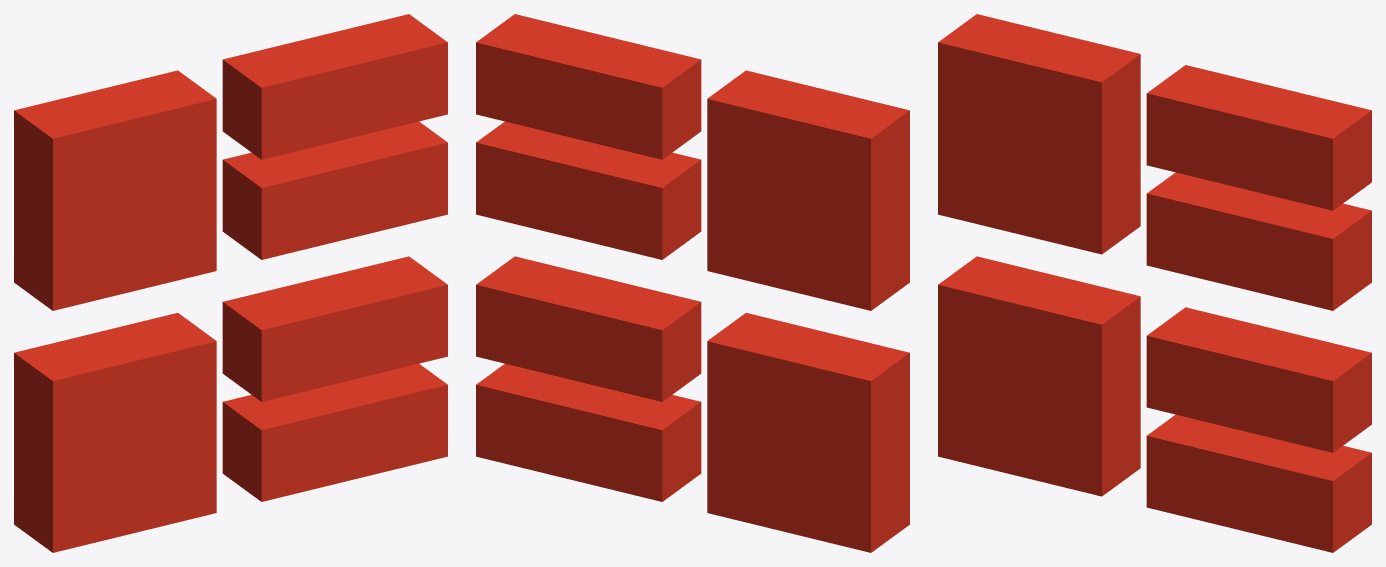
File: Icon_Menu_02.fbx
The picture shows the model from 3 angles, left to right: view 1: azimuth 30°, elevation 25°; view 2: azimuth 150°, elevation 25°; view 3: azimuth 330°, elevation 25°; orthographic projection.
Visible parts, largest first — view 1: Icon_Menu_02; view 2: Icon_Menu_02; view 3: Icon_Menu_02.
Boxes of the visible parts, box(x1,y1,x2,y2) form: Icon_Menu_02: box(14, 14, 447, 552); Icon_Menu_02: box(476, 14, 909, 552); Icon_Menu_02: box(938, 14, 1371, 552).
Size of the model in its own units: 70.83 by 70.95 by 12.06.
